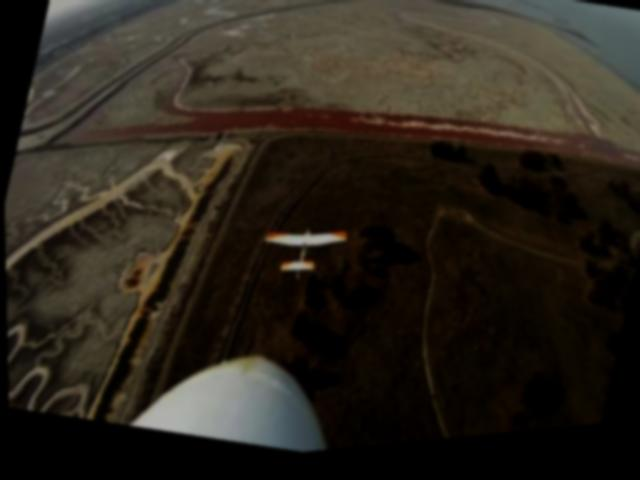uav: (248, 209, 355, 306)
